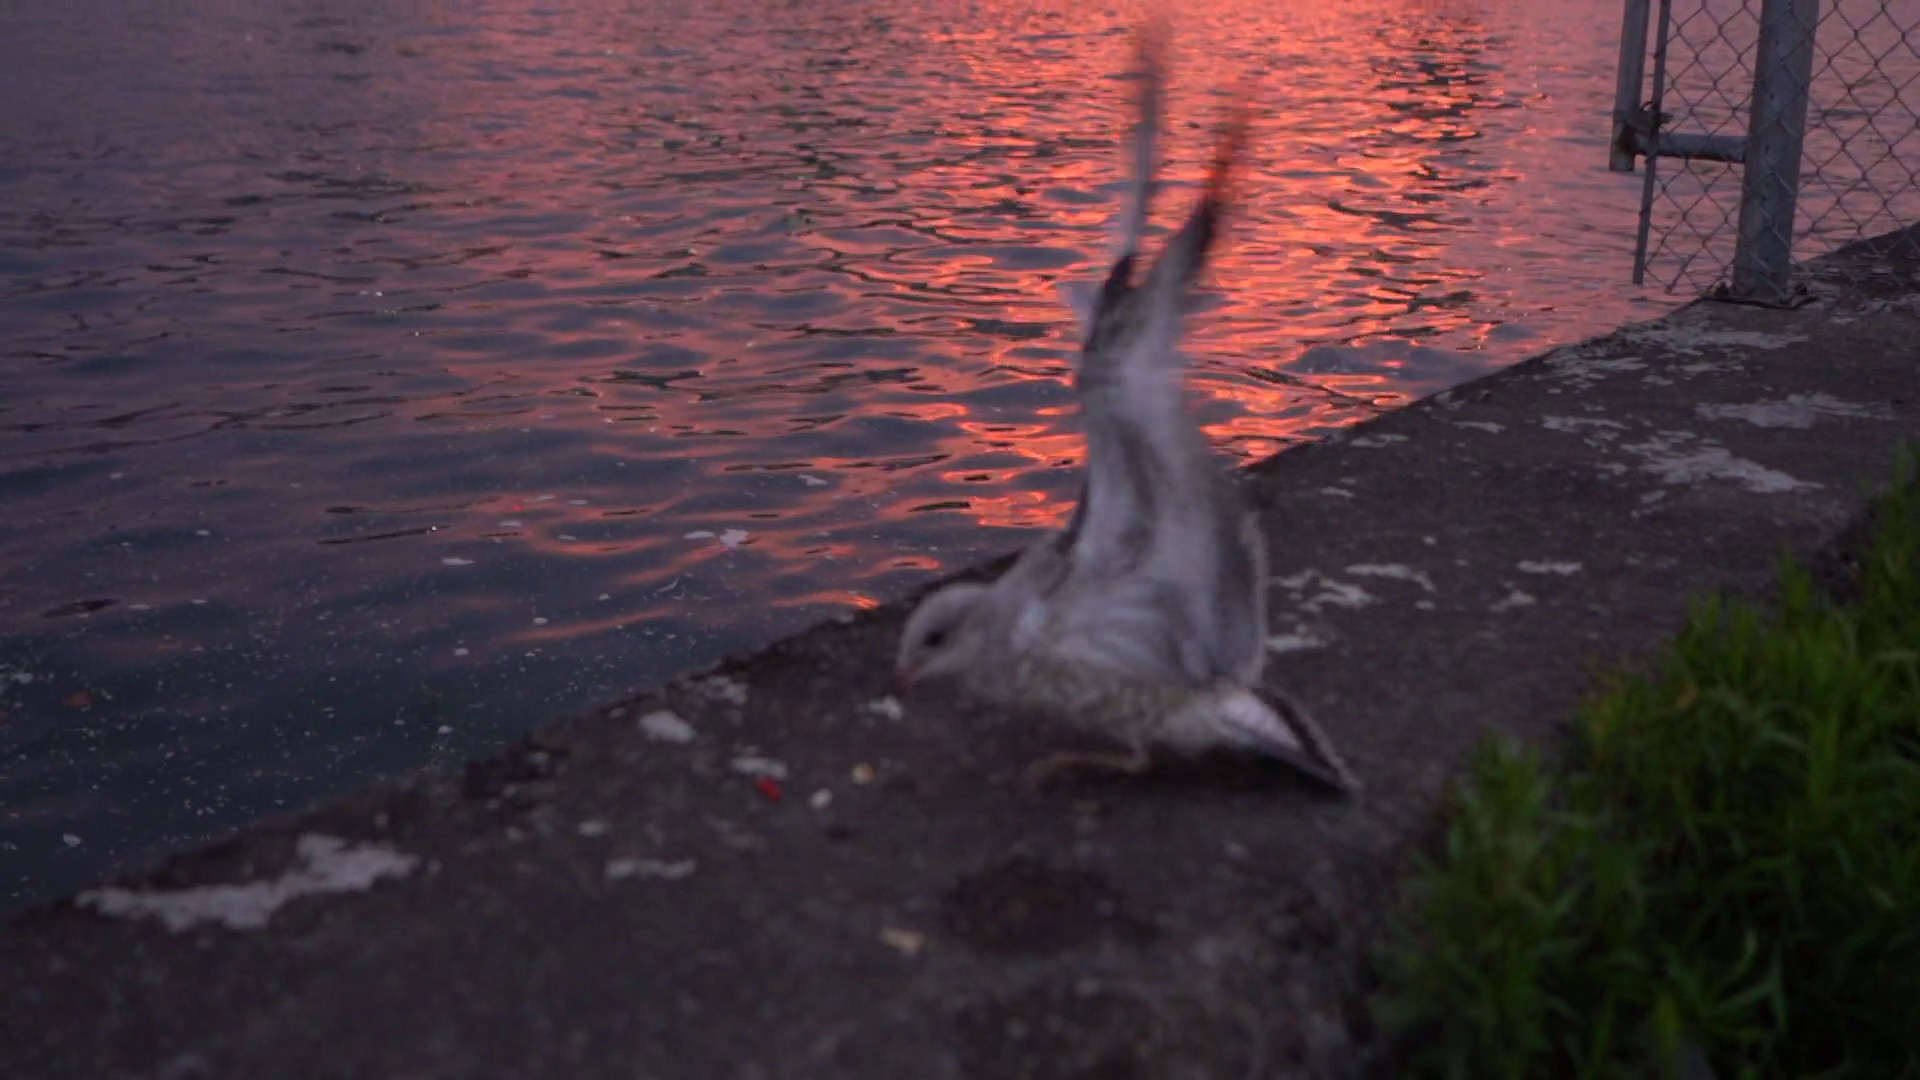bird: (891, 42, 1360, 785)
